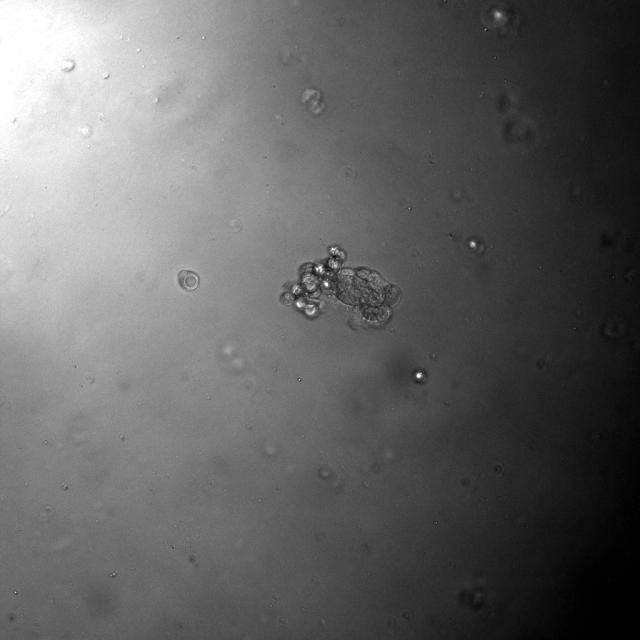organoid: (279, 244, 401, 331), (178, 269, 199, 291)
